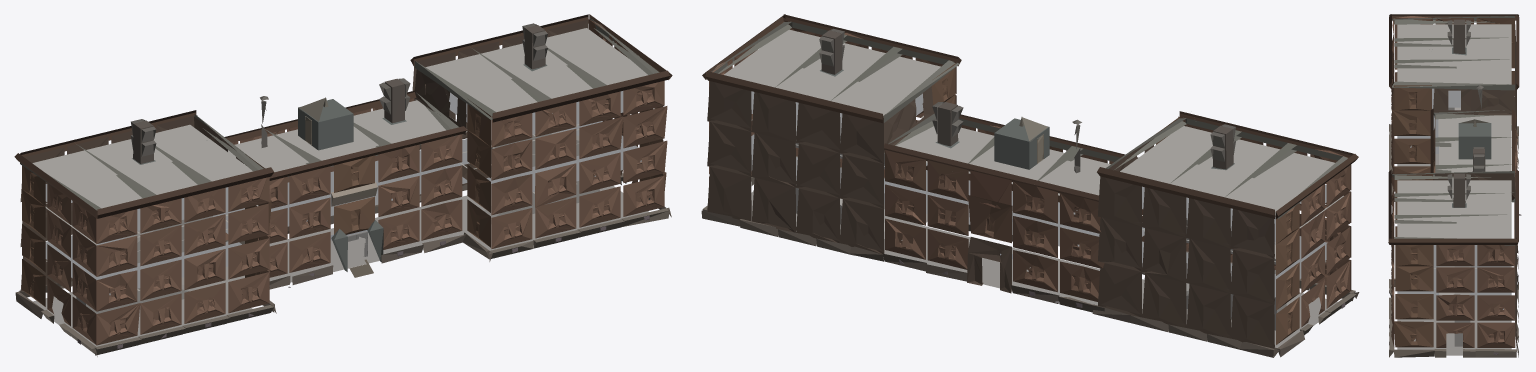
Rendered from prison-block.access-v10.lod1.glb.
3 renders of one model, left to right at view 1: azimuth 30°, elevation 25°; view 2: azimuth 150°, elevation 25°; view 3: azimuth 270°, elevation 25°, orthographic. The views are drawn at different scales.
Parts seen in each view (by area): view 1: Jail_Build1_MAT_0; view 2: Jail_Build1_MAT_0; view 3: Jail_Build1_MAT_0.
Boxes of the visible parts, left/top/right/bottom form: Jail_Build1_MAT_0: left=14, top=14, right=672, bottom=356; Jail_Build1_MAT_0: left=701, top=14, right=1359, bottom=357; Jail_Build1_MAT_0: left=1388, top=14, right=1521, bottom=357.
Bounding box in the file's own units: 51.78 × 15.58 × 12.82.
